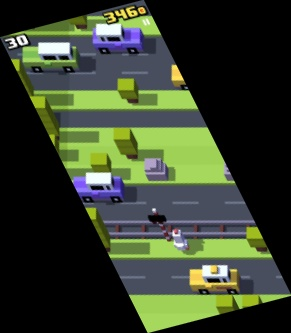car: (21, 41, 81, 74), (66, 172, 126, 203), (170, 59, 228, 89), (90, 23, 146, 54), (188, 266, 240, 296)
duck: (166, 228, 191, 253)
light off: (148, 208, 171, 241)
rail: (86, 219, 269, 240)
rock: (223, 155, 248, 182), (142, 157, 167, 181)
tree: (26, 95, 60, 143), (77, 207, 111, 251), (6, 59, 35, 101), (112, 128, 136, 159), (64, 1, 86, 32), (37, 134, 60, 163), (244, 227, 270, 252), (89, 153, 113, 178), (215, 296, 239, 321), (117, 79, 139, 104), (242, 294, 262, 319)
